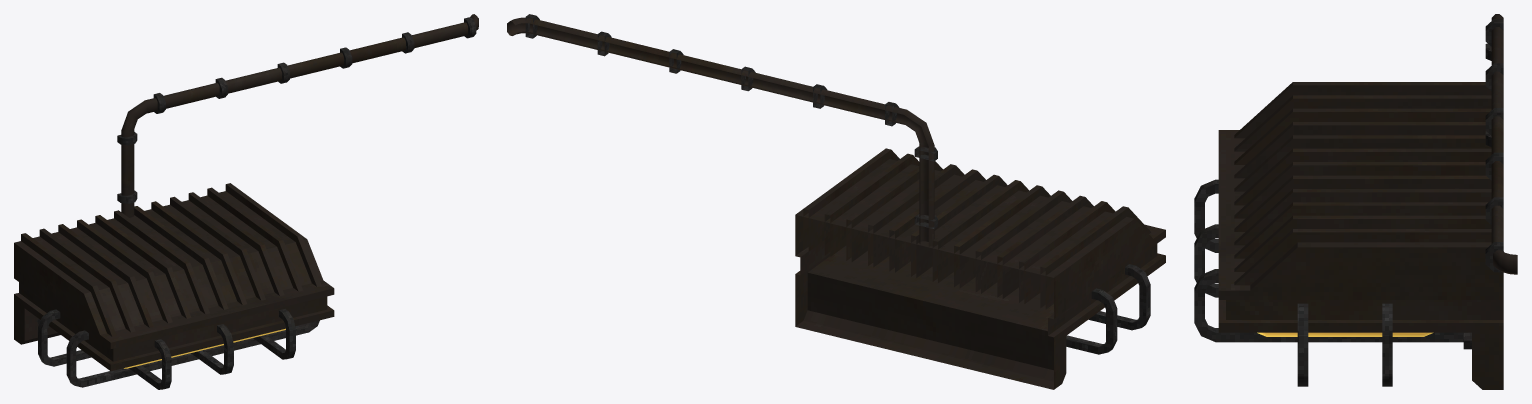
Rendered from lamp_5_1_on.glb.
3 views of the same model, side by side, from view 1: azimuth 30°, elevation 25°; view 2: azimuth 150°, elevation 25°; view 3: azimuth 270°, elevation 25° (orthographic). The views are drawn at different scales.
Visible parts, largest first — view 1: lamp_5_1_on, lamp_5_1_on_protector; view 2: lamp_5_1_on, lamp_5_1_on_protector; view 3: lamp_5_1_on, lamp_5_1_on_protector.
Part boxes in pixels (bbox=[...]): lamp_5_1_on: bbox=[14, 14, 478, 370]; lamp_5_1_on_protector: bbox=[38, 309, 319, 389]; lamp_5_1_on: bbox=[507, 14, 1165, 389]; lamp_5_1_on_protector: bbox=[1066, 264, 1150, 354]; lamp_5_1_on: bbox=[1218, 14, 1517, 389]; lamp_5_1_on_protector: bbox=[1194, 179, 1463, 386].
Bounding box in the file's own units: 0.7752 × 0.325 × 0.3063.
3 materials, 3 textured.
